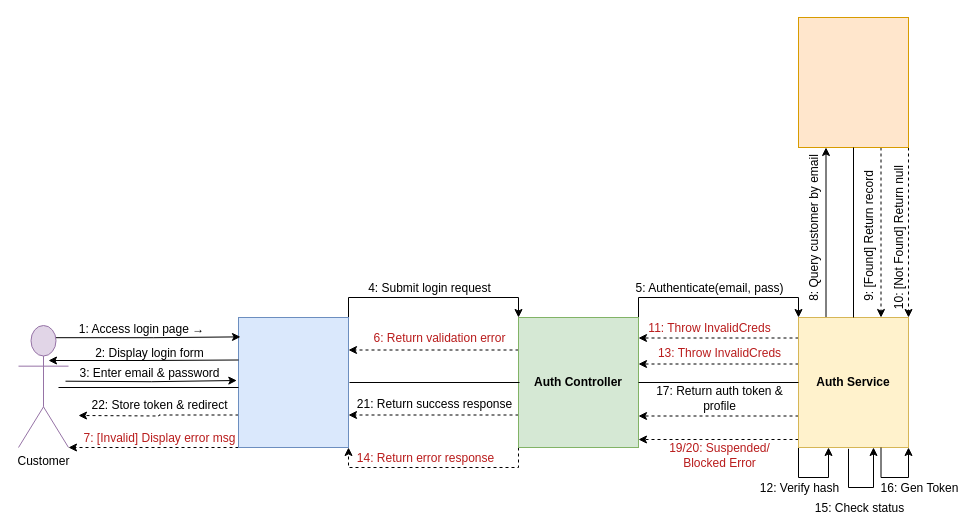
Image size: 975x532. Some labels were removed from this diagram. The shapes that lost their labels are listed below. From the top down, each one's box as (x1, y1, x2, y2) in pixels, then its label:
(798, 16, 908, 148): Database
(238, 316, 348, 448): Login UI
